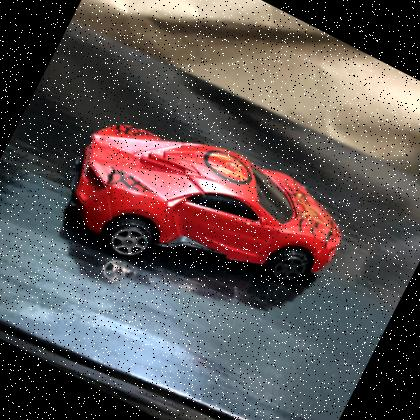Car: (70, 126, 341, 284)
